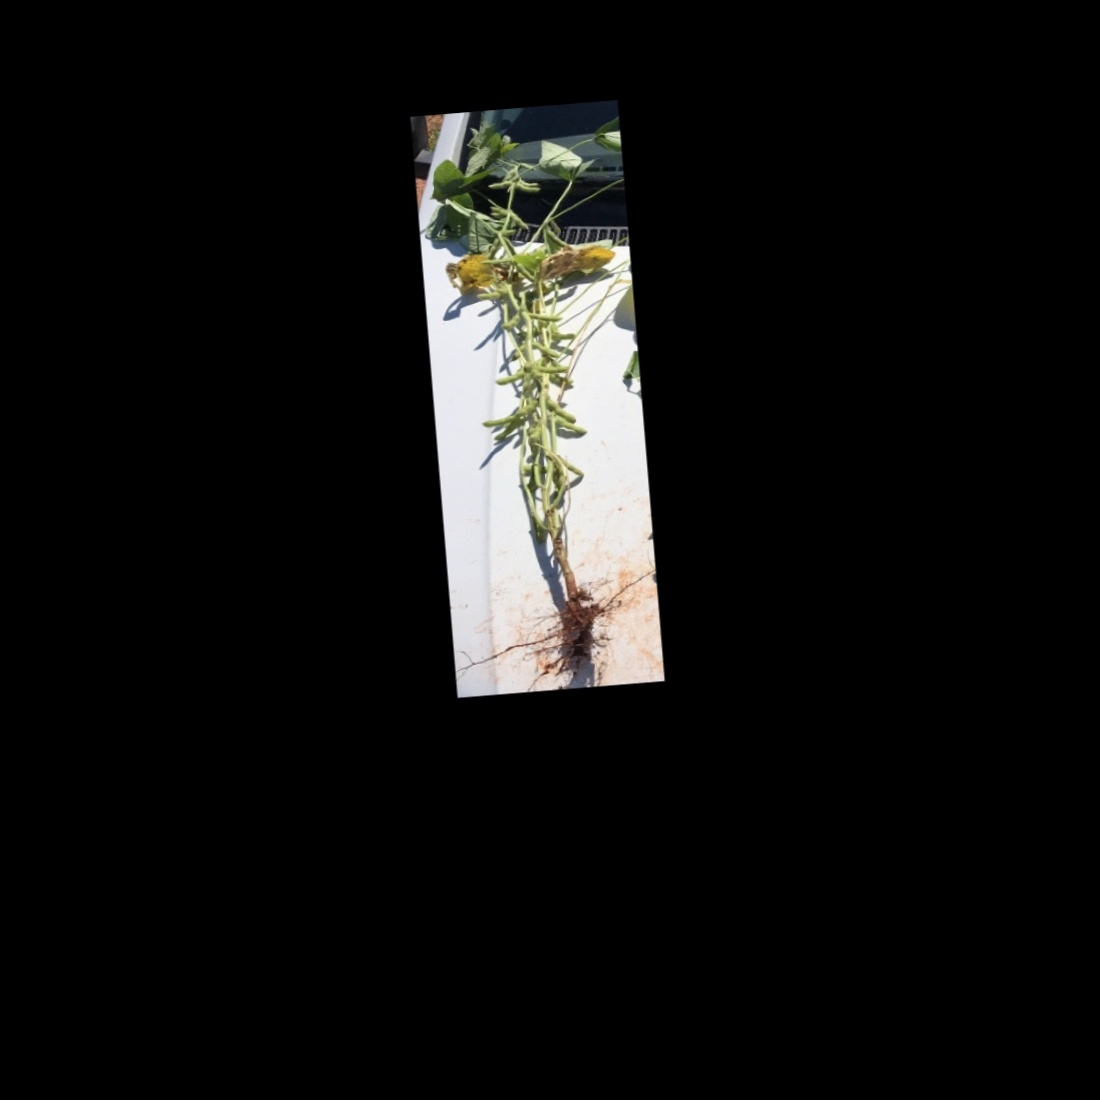pod: (543, 394, 577, 426), (480, 409, 525, 430), (554, 415, 589, 440), (490, 365, 531, 386), (511, 395, 544, 421), (558, 451, 586, 479), (529, 337, 563, 360), (498, 308, 527, 333), (527, 308, 564, 325), (536, 360, 572, 376), (473, 288, 509, 304), (511, 212, 532, 233)
soy: (426, 118, 654, 677)
